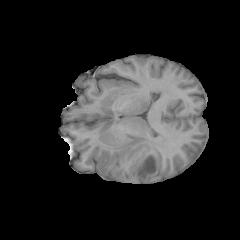glioma: (98, 132, 171, 183)
